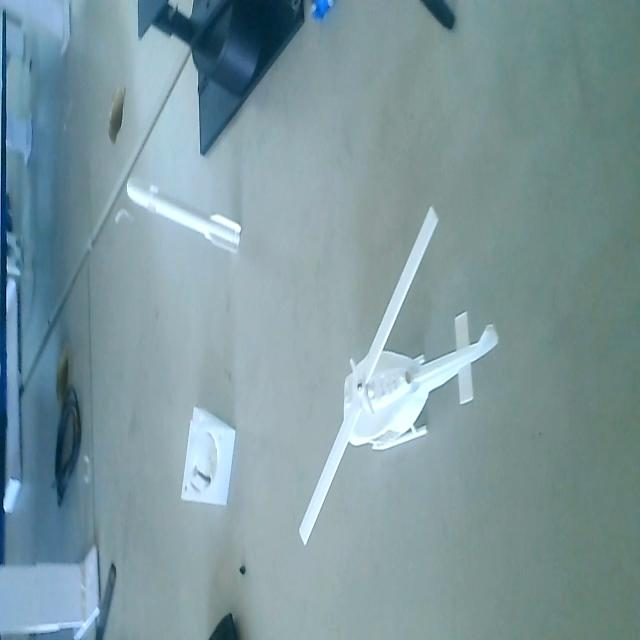Helicopter: (296, 207, 502, 546)
Rocket: (123, 167, 245, 262)
